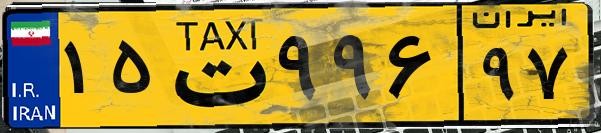1: (57, 26, 110, 100)
5: (110, 28, 158, 98)
6: (385, 28, 445, 110)
7: (525, 38, 570, 115)
9: (270, 28, 330, 110), (330, 28, 385, 110), (475, 38, 525, 113)
ت: (158, 12, 270, 120)
